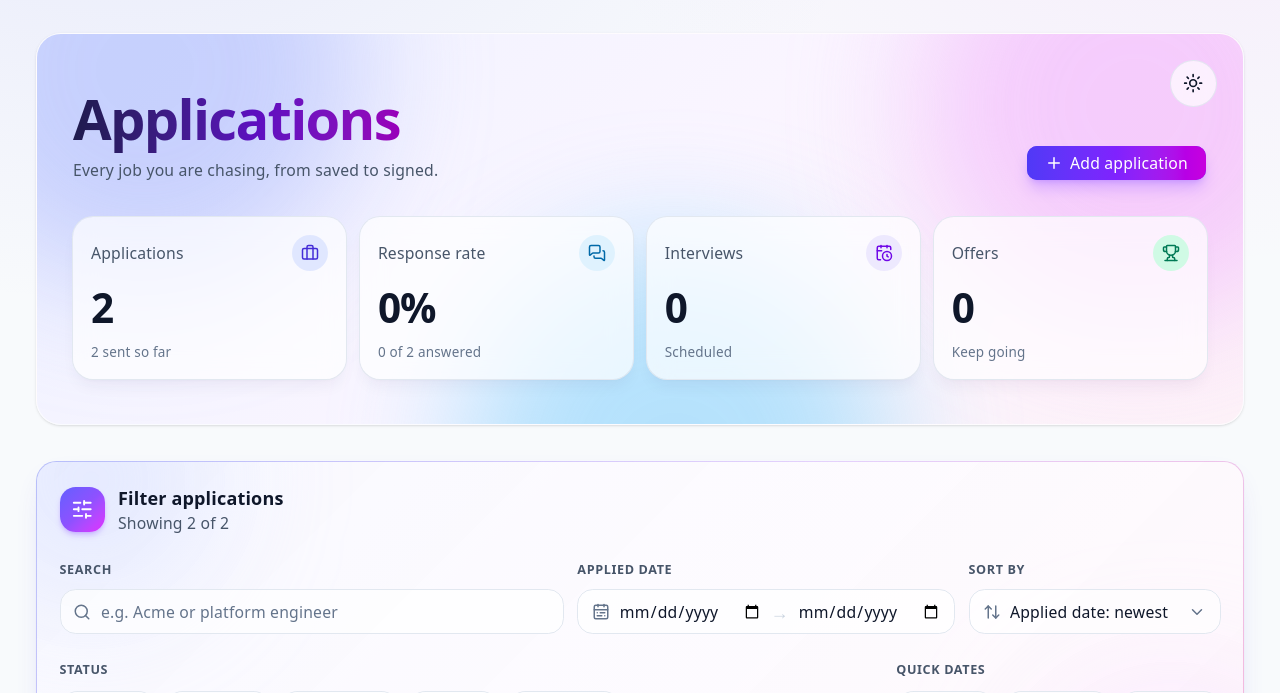
Test: ApplicationsPage API integration › shows a no-results message that can clear the filters
The image size is (1280, 693).
In the search field named "search company": (312, 612) [60,589,564,634], type "nothing matches this"
(page scrolled)
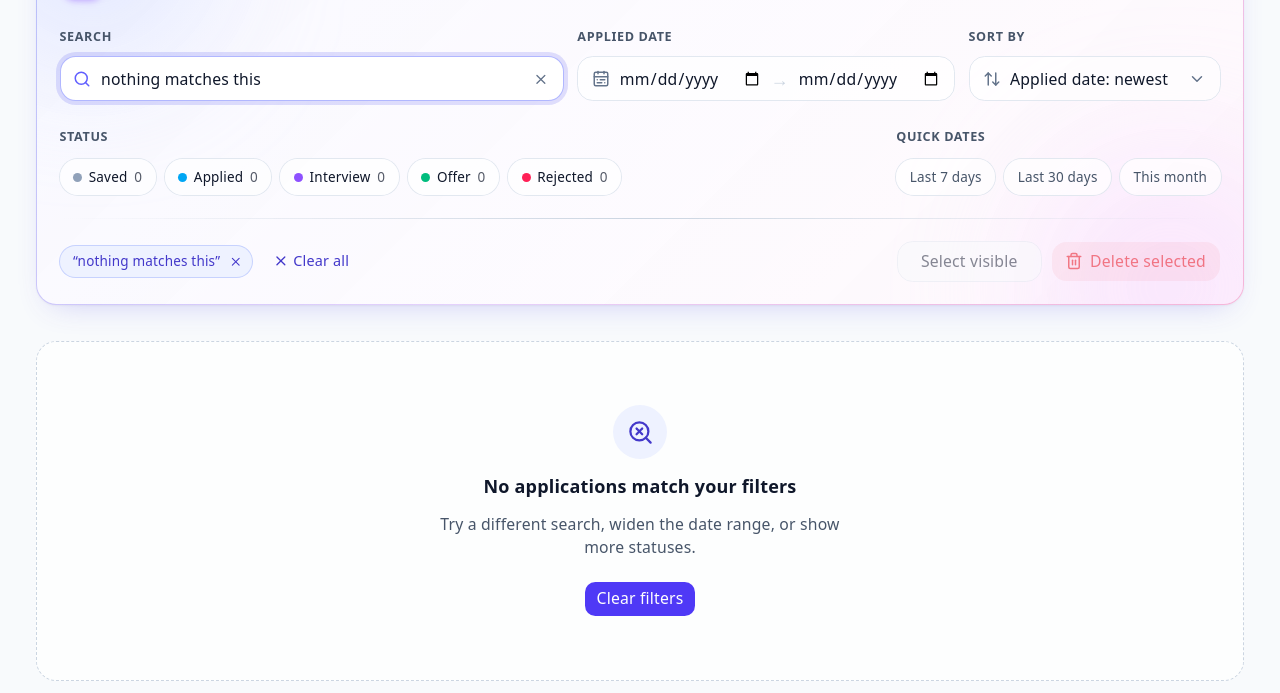
Now the text "No applications match your filters" is shown, box [484,472,796,500]
Click the button "Clear filters": (640, 598) [584,580,696,616]
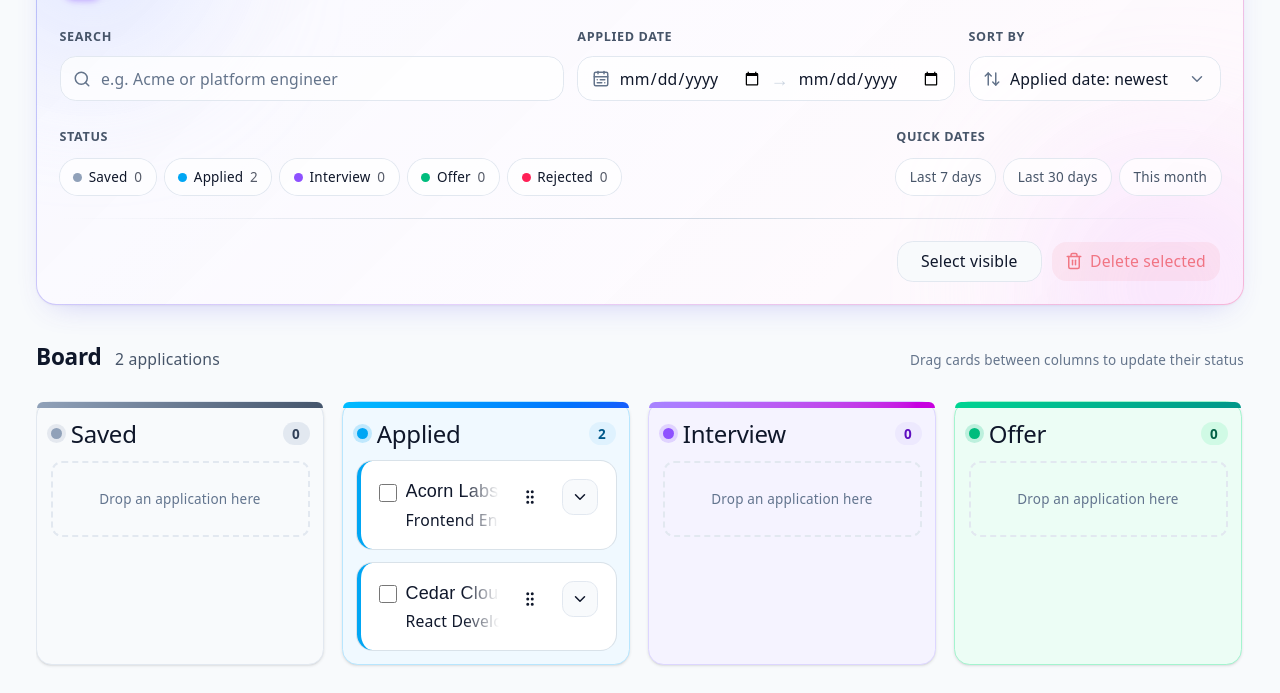
Now the text "Acorn Labs" is shown, box [406,479,498,504]
Now the text "Cedar Cloud" is shown, box [406,581,498,605]
